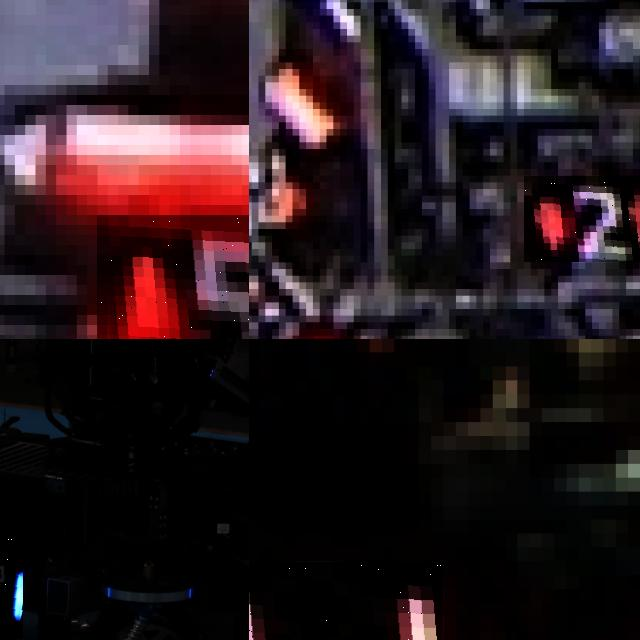Bs: (0, 531, 23, 639)
R2: (523, 175, 640, 262)
R5: (97, 215, 249, 339)
Rs: (249, 561, 443, 640)
